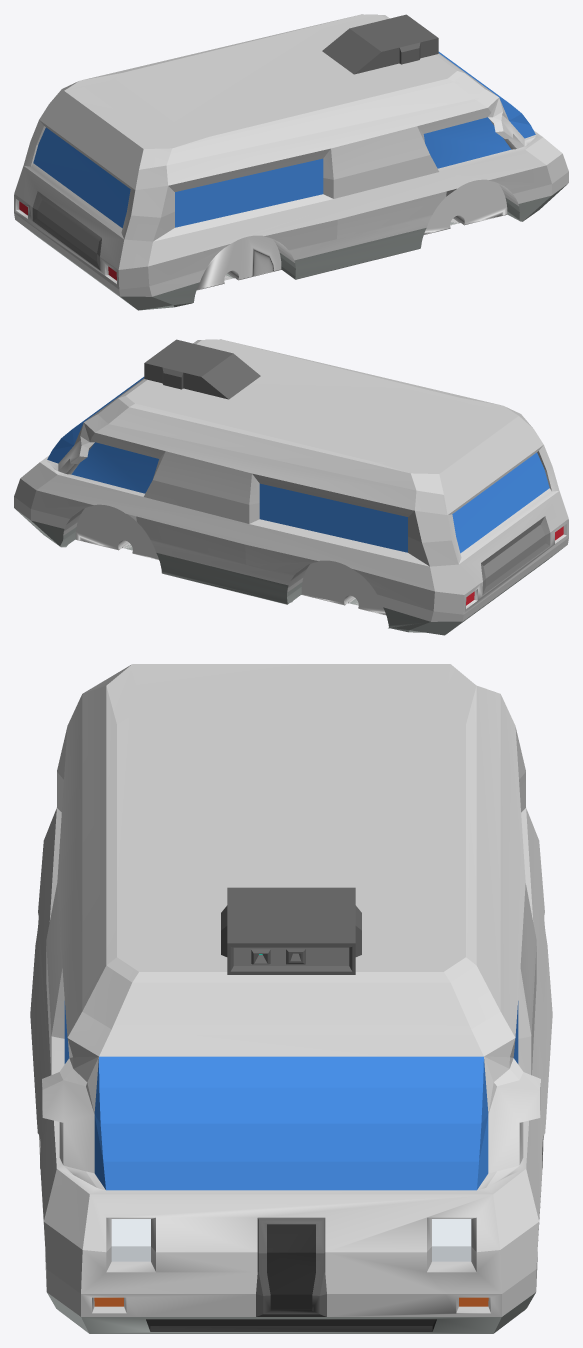
The model's file is car2Base.glb.
3 renders of one model, top to bottom at view 1: azimuth 30°, elevation 25°; view 2: azimuth 150°, elevation 25°; view 3: azimuth 270°, elevation 25°, orthographic. The views are drawn at different scales.
Parts seen in each view (by area): view 1: CarFrame; view 2: CarFrame; view 3: CarFrame.
Boxes of the visible parts, left/top/right/bottom form: CarFrame: left=14, top=14, right=568, bottom=310; CarFrame: left=14, top=339, right=568, bottom=635; CarFrame: left=30, top=664, right=552, bottom=1333.
Bounding box in the file's own units: 30.66 × 10.75 × 15.38.
